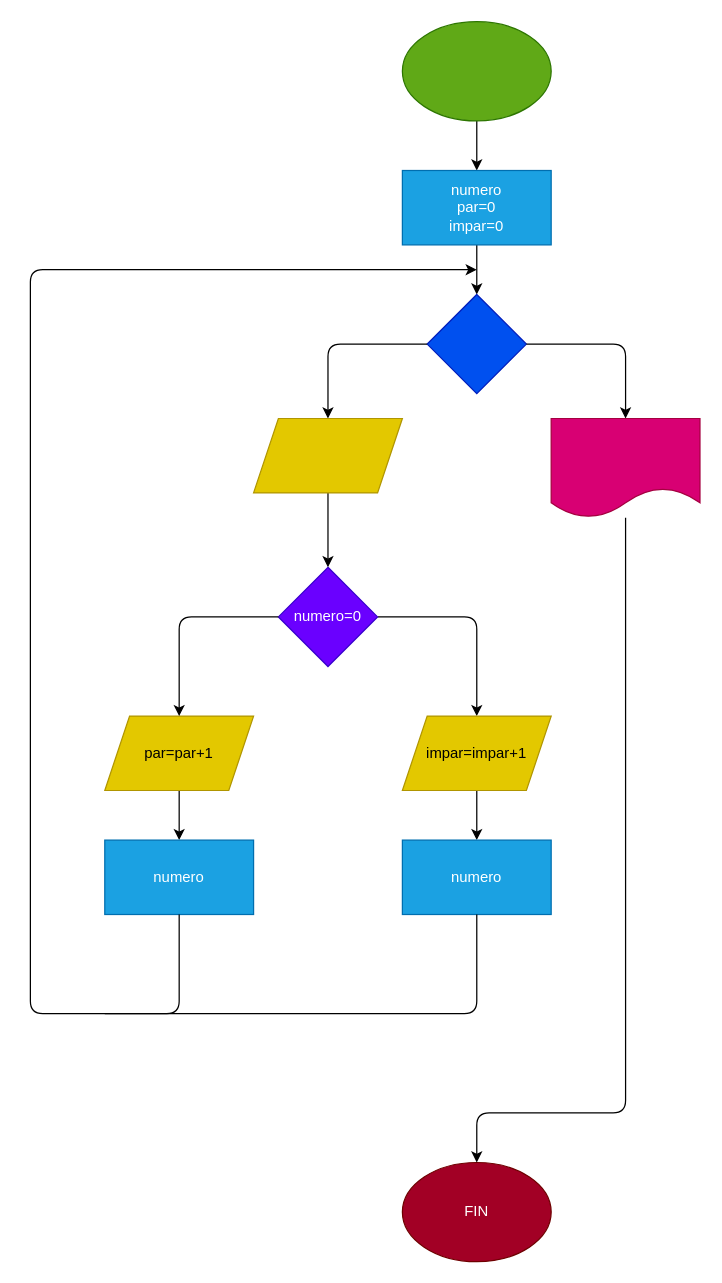
Image size: 722x1283. Some labels were removed from this diagram. The centre of each missing label's shape, as x and y in pixels:
"INICIO" goes at point (476, 70).
"numero !=0" goes at point (476, 343).
"numero=%2" goes at point (327, 455).
"par impar" goes at point (625, 467).
